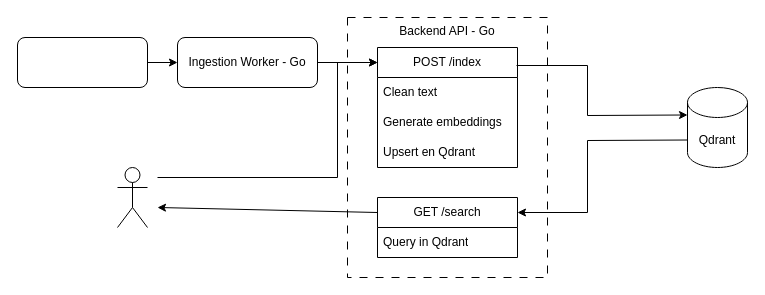
The diagram is 765 pixels wide and 295 high, and some of its shapes have lost their labels. The centre of each missing label's shape, as x and y in pixels:
"Actor" belongs at (x=132, y=197).
"External API - Gnews" belongs at (x=82, y=62).
